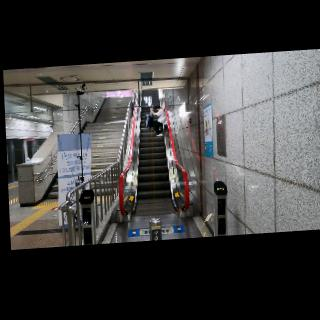anomaly: (146, 95, 173, 144)
